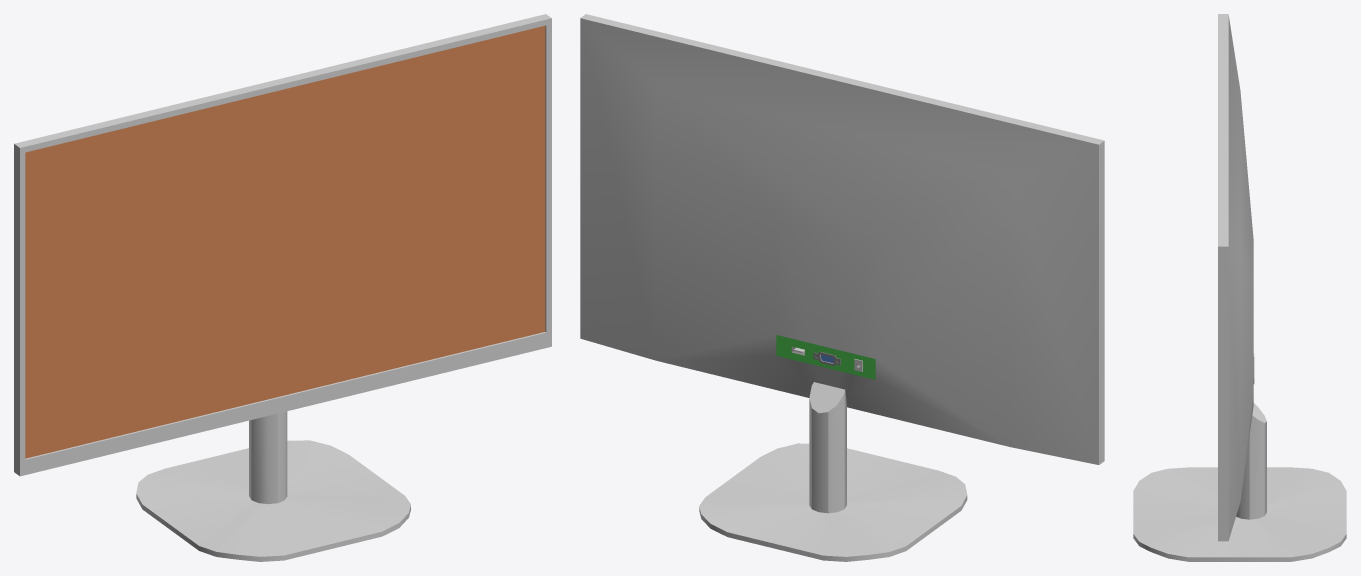
File: monitor.fbx
3 views of the same model, side by side, from view 1: azimuth 30°, elevation 25°; view 2: azimuth 150°, elevation 25°; view 3: azimuth 270°, elevation 25° (orthographic). The views are drawn at different scales.
Parts seen in each view (by area): view 1: monitor; view 2: monitor; view 3: monitor.
Boxes of the visible parts, <box> form: monitor: <box>14,14,551,561</box>; monitor: <box>580,14,1104,561</box>; monitor: <box>1133,14,1346,561</box>.
Bounding box in the file's own units: 62 × 48 × 24.
